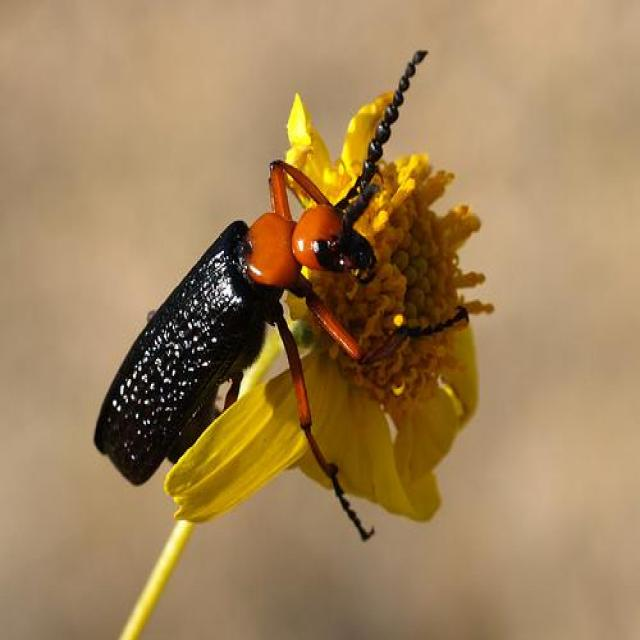BlisterBeetle-Adult-: (90, 43, 458, 542)
